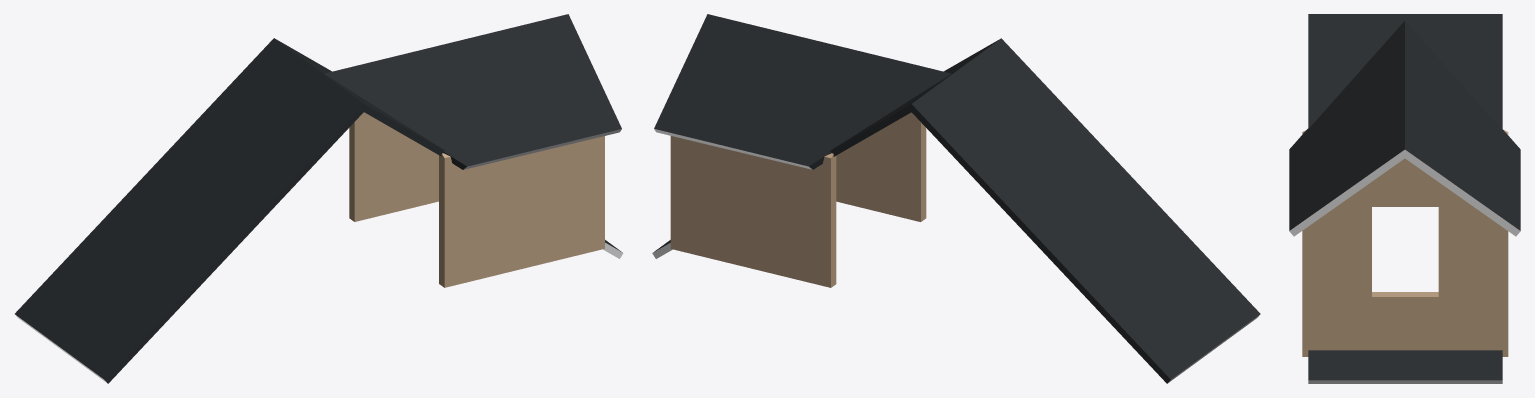
The model's file is Roof2_C1_05.fbx.
The picture shows the model from 3 angles, left to right: view 1: azimuth 30°, elevation 25°; view 2: azimuth 150°, elevation 25°; view 3: azimuth 270°, elevation 25°; orthographic projection. The views are drawn at different scales.
Parts seen in each view (by area): view 1: Roof2_C1_05; view 2: Roof2_C1_05; view 3: Roof2_C1_05.
Part boxes in pixels (x1=…): Roof2_C1_05: x1=15, y1=14, x2=623, y2=383; Roof2_C1_05: x1=652, y1=14, x2=1260, y2=383; Roof2_C1_05: x1=1289, y1=14, x2=1520, y2=383.
Bounding box in the file's own units: 833 × 334 × 298.
